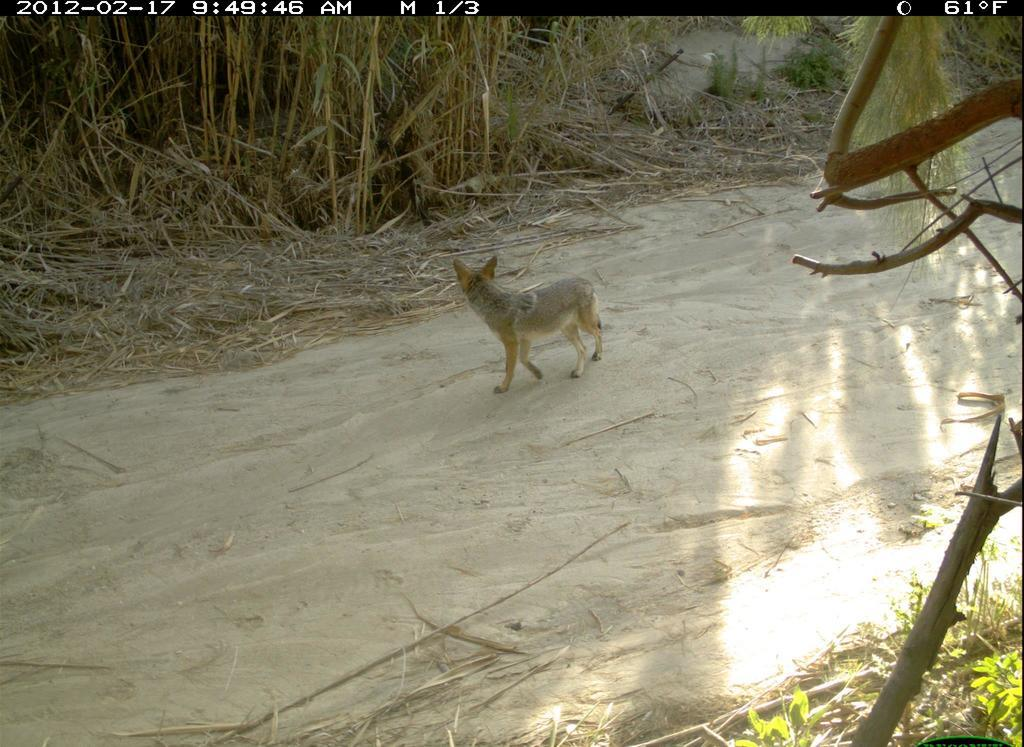coyote: (432, 242, 616, 396)
